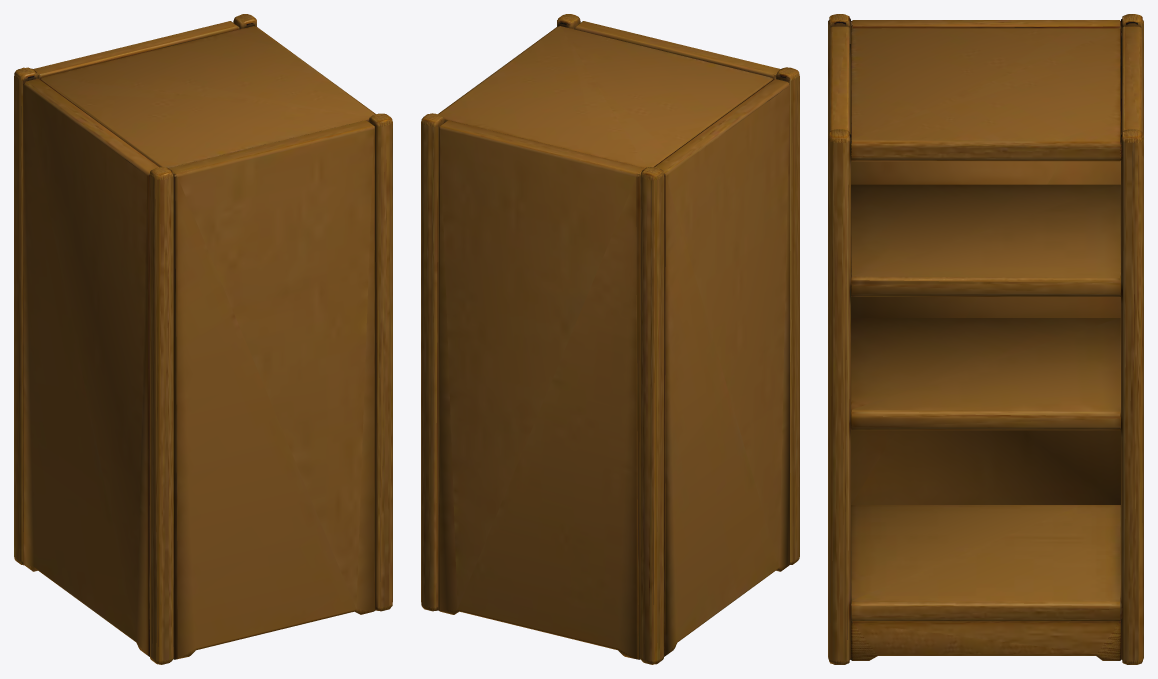
The model's file is bookshelf-lod2.glb.
The picture shows the model from 3 angles, left to right: view 1: azimuth 30°, elevation 25°; view 2: azimuth 150°, elevation 25°; view 3: azimuth 270°, elevation 25°; orthographic projection. The views are drawn at different scales.
Visible parts, largest first — view 1: tripo_mesh_7368b73e-a0ea-4e65-9849-098c0db6b1ae; view 2: tripo_mesh_7368b73e-a0ea-4e65-9849-098c0db6b1ae; view 3: tripo_mesh_7368b73e-a0ea-4e65-9849-098c0db6b1ae.
Part boxes in pixels (x1=…): tripo_mesh_7368b73e-a0ea-4e65-9849-098c0db6b1ae: x1=14, y1=14, x2=392, y2=664; tripo_mesh_7368b73e-a0ea-4e65-9849-098c0db6b1ae: x1=421, y1=14, x2=799, y2=664; tripo_mesh_7368b73e-a0ea-4e65-9849-098c0db6b1ae: x1=828, y1=14, x2=1143, y2=664.
Size of the model in its own units: 0.5059 by 0.998 by 0.541.
1 material, 1 textured.
